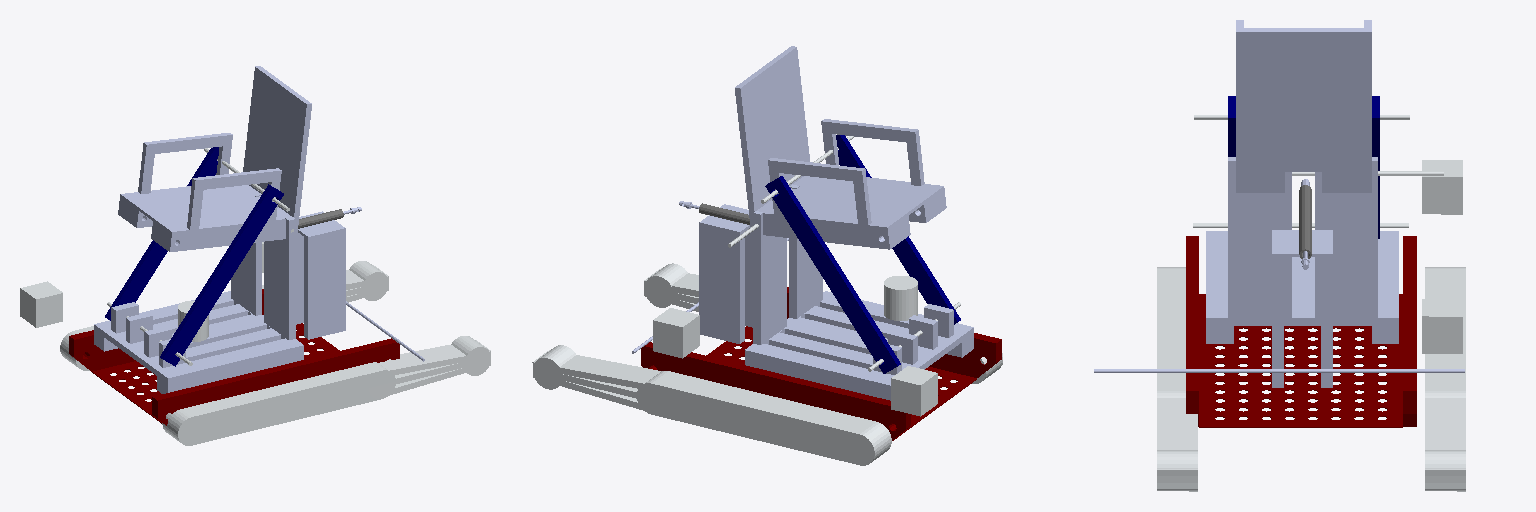
--- What the picture shows (computed from the rendered views, not written in the file) ---
Views: 3 orthographic renders of the robot side by side, from view 1: azimuth 30°, elevation 25°; view 2: azimuth 150°, elevation 25°; view 3: azimuth 270°, elevation 25°.
Model Real_Assembly with 23 links and 22 joints (7 revolute, 15 fixed), rooted at base_link, posed all joints at 0.
Visible links, largest first — view 1: seat, seat_base, base_link, limgf, actuatorbase, larmseat, fl, rarmseat, rr, rl, lslider, rslider; view 2: seat, seat_base, rimgf, base_link, actuatorbase, rl, rarmseat, larmseat, rr, fr, fl, imu_link (+2 smaller); view 3: seat, seat_base, base_link, actuatorbase, rl, fl, limgf, rimgf, fr, rr, frontmshaft, actuator (+1 smaller).
Boxes of the visible links, <box> form: seat: <box>118,66,311,251</box>; seat_base: <box>94,193,303,393</box>; base_link: <box>69,289,399,425</box>; limgf: <box>162,362,395,445</box>; actuatorbase: <box>296,211,345,339</box>; larmseat: <box>160,184,283,366</box>; fl: <box>369,336,490,398</box>; rarmseat: <box>105,147,218,320</box>; rr: <box>20,281,62,327</box>; rl: <box>346,261,388,302</box>; lslider: <box>111,302,152,343</box>; rslider: <box>144,326,185,367</box>; seat: <box>735,46,946,249</box>; seat_base: <box>745,184,973,400</box>; rimgf: <box>637,371,891,465</box>; base_link: <box>641,287,1001,440</box>; actuatorbase: <box>699,204,752,343</box>; rl: <box>532,345,667,410</box>; rarmseat: <box>765,176,900,373</box>; larmseat: <box>836,135,960,324</box>; rr: <box>891,366,937,416</box>; fr: <box>653,308,699,358</box>; fl: <box>644,263,698,311</box>; imu_link: <box>884,276,917,320</box>; seat: <box>1236,20,1371,192</box>; seat_base: <box>1206,157,1398,343</box>; base_link: <box>1186,236,1416,427</box>; actuatorbase: <box>1272,230,1332,387</box>; rl: <box>1425,391,1465,491</box>; fl: <box>1157,391,1197,491</box>; limgf: <box>1157,267,1185,397</box>; rimgf: <box>1425,267,1465,397</box>; fr: <box>1422,299,1462,353</box>; rr: <box>1422,160,1462,214</box>; frontmshaft: <box>1094,369,1464,372</box>; actuator: <box>1299,185,1311,258</box>.
Size in the robot's own frame: 1.3 by 0.9039 by 0.9948 metres.
14 mesh visuals loaded from 15 distinct referenced files (14 binary STL); not drawn: 1 (reference not matched to a file when rendering).

The robot description file, URDF, robot "Real_Assembly":
<?xml version="1.0" encoding="utf-8"?>
<robot
  name="Real_Assembly">
  <link
    name="base_link">
    <inertial>
      <origin
        xyz="0.209887635699005 0.131328835860976 -0.299617885060806"
        rpy="0 0 0" />
      <mass
        value="21.45414251209" />
      <inertia
        ixx="0.0737845881588852"
        ixy="-6.44448057037844E-07"
        ixz="9.29766076403339E-17"
        iyy="1.32886531333523"
        iyz="3.54955546067613E-19"
        izz="1.30624475779064" />
    </inertial>
    <visual>
      <origin
        xyz="0 0 -0.1"
        rpy="0 0 0" />
      <geometry>
        <mesh
          filename="package://Real_Assembly/meshes/base_link.STL" />
      </geometry>
      <material
        name="">
        <color
          rgba="0.501960784313725 0 0 1" />
      </material>
    </visual>
    <collision>
      <origin
        xyz="0 0 -0.1"
        rpy="0 0 0" />
      <geometry>
        <mesh
          filename="package://Real_Assembly/meshes/base_link.STL" />
      </geometry>
    </collision>
  </link>
  <link
    name="limgf">
    <inertial>
      <origin
        xyz="2.70616862252382E-15 1.11022302462516E-16 0"
        rpy="0 0 0" />
      <mass
        value="12" />
      <inertia
        ixx="0.00260008714378625"
        ixy="1.84314369322536E-18"
        ixz="-1.04265441317024E-18"
        iyy="0.0360008714378625"
        iyz="-3.99603000470126E-18"
        izz="0.0305828324604023" />
    </inertial>
    <visual name="ldrivewheel">
      <origin
        xyz="-0.35 0 0"
        rpy="0 0 0" />
      <geometry>
         <cylinder length="0.1" radius="0.05"/>         
      </geometry>
      <material
        name="">
        <color
          rgba="0.898039215686275 0.917647058823529 0.929411764705882 1" />
      </material>
    </visual>
    <collision name="ldrivewheel">
      <origin
        xyz="-0.35 0 0"
        rpy="0 0 0" />
      <geometry>
         <cylinder length="0.1" radius="0.05"/> 
      </geometry>

      <surface>
        <friction>
          <ode>
            <mu>0.7</mu>
            <mu2>150</mu2>
          </ode>
        </friction>
      </surface>
    </collision>
    <visual name="ltrack">
      <origin
        xyz="0 0 0"
        rpy="0 0 0" />
      <geometry>
         <box size ="0.7 0.1 0.1" />       
      </geometry>
      <material
        name="">
        <color
          rgba="0.898039215686275 0.917647058823529 0.929411764705882 1" />
      </material>
    </visual>
    <collision name="ltrack">
      <origin
        xyz="0 0 0"
        rpy="0 0 0" />
      <geometry>
         <box size ="0.7 0.1 0.1" />
      </geometry>
      <surface>
        <friction>
          <ode>
            <mu>0.7</mu>
            <mu2>150</mu2>
          </ode>
        </friction>
      </surface>
    </collision>
    <visual name="lfrontwheel">
      <origin
        xyz="0.35 0 0"
        rpy="0 0 0" />
      <geometry>
         <cylinder length="0.1" radius="0.05"/>         
      </geometry>
      <material
        name="">
        <color
          rgba="0.898039215686275 0.917647058823529 0.929411764705882 1" />
      </material>
    </visual>
    <collision name="lfrontwheel">
      <origin
        xyz="0.35 0 0"
        rpy="0 0 0" />
      <geometry>
         <cylinder length="0.1" radius="0.05"/> 
      </geometry>
      <surface>
        <friction>
          <ode>
            <mu>0.7</mu>
            <mu2>150</mu2>
          </ode>
        </friction>
      </surface>
    </collision>
  </link>
  <joint
    name="limgf"
    type="revolute">
    <origin
      xyz="0.2 0 0"
      rpy="1.57 0 0" />
    <parent
      link="base_link" />
    <child
      link="limgf" />
    <axis
      xyz="0 0 1" />
    <limit lower="0" upper="0" effort="0" velocity="0.00"/>
   </joint>

  <link name='rl'>
    <inertial>
      <origin
        xyz="0 0 0"
        rpy="0 0 0" />
      <mass
        value="1.5" />
      <inertia
        ixx="0.001749"
        ixy="1.84314369322536E-18"
        ixz="0.00188"
        iyy="0.012277"
        iyz="-3.99603000470126E-18"
        izz="0.010941" />
    </inertial>
    <visual name='front_right_flipper_visual_large_wheel_collision'>
      <origin
        xyz="0 0 0"
        rpy="1.57 0 0" />
      <geometry>
         <cylinder length="0.1" radius="0.05"/>          
      </geometry>
      <material
        name="">
        <color
          rgba="0.898039215686275 0.917647058823529 0.929411764705882 1" />
      </material>
    </visual>
    <collision name='front_right_flipper_collision_large_wheel_collision'>
      <origin
        xyz="0 0 0"
        rpy="1.57 0 0" />
      <geometry>
          <cylinder length="0.1" radius="0.05"/> 
      </geometry>
      <surface>
        <friction>
          <ode>
            <mu>0.7</mu>
            <mu2>150</mu2>
            
          </ode>
        </friction>
      </surface>
    </collision>
    <collision name='front_right_flipper_collision_small_wheel_collision_1'>
      <origin
        xyz="0.35 0 0"
        rpy="1.57 0 0" />
        <geometry>
           <cylinder length="0.1" radius="0.03"/> 
        </geometry>
        <surface>
           <friction>
              <ode>
                <mu>0.7</mu>
                <mu2>150</mu2>
                
              </ode>
           </friction>
         </surface>
     </collision>
     <visual name='front_right_flipper_visual_small_wheel_collision'>
      <origin
        xyz="0.35 0 0"
        rpy="1.57 0 0" />
      <geometry>
         <cylinder length="0.1" radius="0.05"/>          
      </geometry>
      <material
        name="">
        <color
          rgba="0.898039215686275 0.917647058823529 0.929411764705882 1" />
      </material>
    </visual>
    <collision name='front_right_flipper_collision_top_bar_collision_2'>
      <origin
        xyz="0.2 0 0.025"
        rpy="0 0.05 0" />
        <geometry>
          <box size="0.35 0.1 0.02"/>
        </geometry>
        <surface>
          <friction>
            <ode>
               <mu>0.7</mu>
               <mu2>150</mu2>
         
            </ode>
          </friction>
        </surface>
    </collision>
    <visual name='front_right_flipper_visual_top_bar_visual_2'>
      <origin
        xyz="0.2 0 0.025"
        rpy="0 0.05 0" />
      <geometry>
         <box size="0.4 0.1 0.02"/>       
      </geometry>
      <material
        name="">
        <color
          rgba="0.898039215686275 0.917647058823529 0.929411764705882 1" />
      </material>
    </visual>
    <collision name='front_right_flipper_collision_bottom_bar_collision_3'>
      <origin
        xyz="0.2 0 -0.025"
        rpy="0 -0.05 0" />
        <geometry>
         <box size="0.4 0.1 0.02"/>       
        </geometry>
        <surface>
          <friction>
            <ode>
               <mu>0.7</mu>
               <mu2>150</mu2>
               
            </ode>
          </friction>
        </surface>
    </collision>
    <collision name='front_right_flipper_collision_middle_bar_collision_4'>
      <origin
        xyz="0.225 0 0"
        rpy="0 0 0" />
        <geometry>
         <box size="0.35 0.1 0.02"/>       
        </geometry>
        <surface>
          <friction>
            <ode>
               <mu>0.7</mu>
               <mu2>150</mu2>
               
            </ode>
          </friction>
        </surface>
    </collision>
    <visual name='front_right_flipper_visual_bottom_bar_visual_3'>
     <origin
        xyz="0.2 0 -0.025"
        rpy="0 -0.05 0" />
      <geometry>
         <box size="0.4 0.1 0.02"/>       
      </geometry>
      <material
        name="">
        <color
          rgba="0.898039215686275 0.917647058823529 0.929411764705882 1" />
      </material>
    </visual>
    <visual name='front_right_flipper_visual_middle_bar_visual_4'>
      <origin
        xyz="0.225 0 0.0"
        rpy="0 0 0" />
      <geometry>
         <box size="0.35 0.1 0.02"/>       
      </geometry>
      <material
        name="">
        <color
          rgba="0.898039215686275 0.917647058823529 0.929411764705882 1" />
      </material>
    </visual>
  </link>
  <joint name='rl' type='revolute'>
    <origin
      xyz="0.35 0 0"
      rpy="1.57 0 0" />
    <parent
      link="rimgf" />
    <child
      link="rl" />
    <axis
      xyz="0 1 0" />
    <limit lower="0" upper="0.7" effort="0.1" velocity="0.10"/>
  </joint>

   <link name='fl'>
    <inertial>
      <origin
        xyz="0 0 0"
        rpy="0 0 0" />
      <mass
        value="1.5" />
      <inertia
        ixx="0.001749"
        ixy="1.84314369322536E-18"
        ixz="0.00188"
        iyy="0.012277"
        iyz="-3.99603000470126E-18"
        izz="0.010941" />
    </inertial>
    <visual name='front_left_flipper_visual_large_wheel_collision'>
      <origin
        xyz="0 0 0"
        rpy="1.57 0 0" />
      <geometry>
         <cylinder length="0.1" radius="0.05"/>          
      </geometry>
      <material
        name="">
        <color
          rgba="0.898039215686275 0.917647058823529 0.929411764705882 1" />
      </material>
    </visual>
    <collision name='front_left_flipper_collision_large_wheel_collision'>
      <origin
        xyz="0 0 0"
        rpy="1.57 0 0" />
      <geometry>
          <cylinder length="0.1" radius="0.05"/> 
      </geometry>
      <surface>
        <friction>
          <ode>
            <mu>0.7</mu>
            <mu2>150</mu2>
            
          </ode>
        </friction>
      </surface>
    </collision>
    <collision name='front_left_flipper_collision_small_wheel_collision_1'>
      <origin
        xyz="0.35 0 0"
        rpy="1.57 0 0" />
        <geometry>
           <cylinder length="0.1" radius="0.03"/> 
        </geometry>
        <surface>
           <friction>
              <ode>
                <mu>0.7</mu>
                <mu2>150</mu2>
                
              </ode>
           </friction>
         </surface>
     </collision>
     <visual name='front_left_flipper_visual_small_wheel_collision'>
      <origin
        xyz="0.35 0 0"
        rpy="1.57 0 0" />
      <geometry>
         <cylinder length="0.1" radius="0.05"/>          
      </geometry>
      <material
        name="">
        <color
          rgba="0.898039215686275 0.917647058823529 0.929411764705882 1" />
      </material>
    </visual>
    <collision name='front_left_flipper_collision_top_bar_collision_2'>
      <origin
        xyz="0.2 0 0.025"
        rpy="0 0.05 0" />
        <geometry>
          <box size="0.35 0.1 0.02"/>
        </geometry>
        <surface>
          <friction>
            <ode>
               <mu>0.7</mu>
               <mu2>150</mu2>
         
            </ode>
          </friction>
        </surface>
    </collision>
    <visual name='front_left_flipper_visual_top_bar_visual_2'>
      <origin
        xyz="0.2 0 0.025"
        rpy="0 0.05 0" />
      <geometry>
         <box size="0.4 0.1 0.02"/>       
      </geometry>
      <material
        name="">
        <color
          rgba="0.898039215686275 0.917647058823529 0.929411764705882 1" />
      </material>
    </visual>
    <collision name='front_left_flipper_collision_bottom_bar_collision_3'>
      <origin
        xyz="0.2 0 -0.025"
        rpy="0 -0.05 0" />
        <geometry>
         <box size="0.4 0.1 0.02"/>       
        </geometry>
        <surface>
          <friction>
            <ode>
               <mu>0.7</mu>
               <mu2>150</mu2>
               
            </ode>
          </friction>
        </surface>
    </collision>
    <collision name='front_left_flipper_collision_middle_bar_collision_4'>
      <origin
        xyz="0.225 0 0"
        rpy="0 0 0" />
        <geometry>
         <box size="0.35 0.1 0.02"/>       
        </geometry>
        <surface>
          <friction>
            <ode>
               <mu>0.7</mu>
               <mu2>150</mu2>
               
            </ode>
          </friction>
        </surface>
    </collision>
    <visual name='front_left_flipper_visual_bottom_bar_visual_3'>
     <origin
        xyz="0.2 0 -0.025"
        rpy="0 -0.05 0" />
      <geometry>
         <box size="0.4 0.1 0.02"/>       
      </geometry>
      <material
        name="">
        <color
          rgba="0.898039215686275 0.917647058823529 0.929411764705882 1" />
      </material>
    </visual>
    <visual name='front_left_flipper_visual_middle_bar_visual_4'>
      <origin
        xyz="0.225 0 0.0"
        rpy="0 0 0" />
      <geometry>
         <box size="0.35 0.1 0.02"/>       
      </geometry>
      <material
        name="">
        <color
          rgba="0.898039215686275 0.917647058823529 0.929411764705882 1" />
      </material>
    </visual>
  </link>
  <joint name='fl' type='revolute'>
    <origin
      xyz="0.35 0 0"
      rpy="1.57 0 0" />
    <parent
      link="limgf" />
    <child
      link="fl" />
    <axis
      xyz="0 1 0" />
    <limit lower="0" upper="0.7" effort="0.1" velocity="0.10"/>
  </joint>
  <link
    name="rimgf">
    <inertial>
      <origin
        xyz="2.70616862252382E-15 1.11022302462516E-16 2.22044604925031E-16"
        rpy="0 0 0" />
      <mass
        value="12" />
      <inertia
        ixx="0.00280008714378625"
        ixy="1.84314369322536E-18"
        ixz="-1.04265441317024E-18"
        iyy="0.0308714378625"
        iyz="-3.99603000470126E-18"
        izz="0.03" />
    </inertial>
    <visual name="rtrack">
      <origin
        xyz="0 0 0"
        rpy="0 0 0" />
      <geometry>
        <box size = "0.7 0.1 0.1" />
      </geometry>
      <material
        name="">
        <color
          rgba="0.898039215686275 0.917647058823529 0.929411764705882 1" />
      </material>
    </visual>
    <collision name="rtrack">
      <origin
        xyz="0 0 0"
        rpy="0 0 0" />
      <geometry>
          <box size = "0.7 0.1 0.1" />
      </geometry>
      
      <surface>
        <friction>
          <ode>
            <mu>0.7</mu>
            <mu2>150</mu2>
          </ode>
        </friction>
      </surface>
    </collision>
    <visual name="rdrivewheel">
      <origin
        xyz="-0.35 0 0"
        rpy="0 0 0" />
      <geometry>
        <cylinder length="0.1" radius="0.05"/>
      </geometry>
      <material
        name="">
        <color
          rgba="0.898039215686275 0.917647058823529 0.929411764705882 1" />
      </material>
    </visual>
    <collision name="rdrivewheel">
      <origin
        xyz="-0.35 0 0"
        rpy="0 0 0" />
      <geometry>
          <cylinder length="0.1" radius="0.05"/>
      </geometry>


      <surface>
        <friction>
          <ode>
            <mu>0.7</mu>
            <mu2>150</mu2>
          </ode>
        </friction>
      </surface>

    </collision>
    
    <visual name= "rfrontwheel">
      <origin
        xyz="0.35 0 0"
        rpy="0 0 0" />
      <geometry>
        <cylinder length="0.1" radius="0.05"/>
      </geometry>
      <material
        name="">
        <color
          rgba="0.898039215686275 0.917647058823529 0.929411764705882 1" />
      </material>
    </visual>
    <collision name="rfrontwheel">
      <origin
        xyz="0.35 0 0"
        rpy="0 0 0" />
      <geometry>
          <cylinder length="0.1" radius="0.05"/>
      </geometry>


      <surface>
        <friction>
          <ode>
            <mu>0.7</mu>
            <mu2>150</mu2>
          </ode>
        </friction>
      </surface>

    </collision>
  </link>
  <joint
    name="rimgf"
    type="revolute">
    <origin
      xyz="0.2 0.65 0"
      rpy="1.57 0 0" />
    <parent
      link="base_link" />
    <child
      link="rimgf" />
    <axis
      xyz="0 0 1" />
    <limit lower="0" upper="0" effort="0" velocity="0.00"/>
   </joint>

<link
    name="fr">
    <inertial>
      <origin
        xyz="2.70616862252382E-15 1.11022302462516E-16 2.22044604925031E-16"
        rpy="0 0 0" />
      <mass
        value="0.767359308966555" />
      <inertia
        ixx="0.00180008714378625"
        ixy="1.84314369322536E-18"
        ixz="-1.04265441317024E-18"
        iyy="0.00180008714378625"
        iyz="-3.99603000470126E-18"
        izz="0.00255828324604023" />
    </inertial>
    <visual>
      <origin
        xyz="0 0 0"
        rpy="0 0 0" />
      <geometry>
        <box size="0.1 0.1 0.1"/>
      </geometry>
      <material
        name="">
        <color
          rgba="0.898039215686275 0.917647058823529 0.929411764705882 1" />
      </material>
    </visual>
    <collision>
      <origin
        xyz="0 0 0"
        rpy="0 0 0" />
      <geometry>
          <box size="0.1 0.1 0.1"/>
      </geometry>


      <surface>
        <friction>
          <ode>
            <mu>0.5</mu>
            <mu2>3.19</mu2>
          </ode>
        </friction>
      </surface>

    </collision>
  </link>
  <joint
    name="fr"
    type="revolute">
    
    <origin
      xyz="0.3 0.2 0.00848870681082972"
      rpy="3.14159265358978 0 0" />
    <parent
      link="rimgf" />
    <child
      link="fr" />
    <axis
      xyz="0 0 1" />
    <limit lower="-1e+16" upper="1e+16" effort="0.0" velocity="0.00"/>
  </joint>
<link
    name="rr">
    <inertial>
      <origin
        xyz="2.70616862252382E-15 1.11022302462516E-16 2.22044604925031E-16"
        rpy="0 0 0" />
      <mass
        value="0.767359308966555" />
      <inertia
        ixx="0.00180008714378625"
        ixy="1.84314369322536E-18"
        ixz="-1.04265441317024E-18"
        iyy="0.00180008714378625"
        iyz="-3.99603000470126E-18"
        izz="0.00255828324604023" />
    </inertial>
    <visual>
      <origin
        xyz="0 0 0"
        rpy="0 0 0" />
      <geometry>
        <box size="0.1 0.1 0.1"/>
      </geometry>
      <material
        name="">
        <color
          rgba="0.898039215686275 0.917647058823529 0.929411764705882 1" />
      </material>
    </visual>
    <collision>
      <origin
        xyz="0 0 0"
        rpy="0 0 0" />
      <geometry>
          <box size="0.1 0.1 0.1"/>
      </geometry>


      <surface>
        <friction>
          <ode>
            <mu>0.5</mu>
            <mu2>3.19</mu2>
          </ode>
        </friction>
      </surface>

    </collision>
  </link>
  <joint
    name="rr"
    type="revolute">
    
    <origin
      xyz="-0.5 0.2 0.00848870681082972"
      rpy="3.14159265358978 0 0" />
    <parent
      link="rimgf" />
    <child
      link="rr" />
    <axis
      xyz="0 0 1" />
    <limit lower="-1e+16" upper="1e+16" effort="0.0" velocity="0.00"/>
  </joint>

  <link
    name="seat_base">
    <inertial>
      <origin
        xyz="0.13070677596664 0.0591721063764107 0.160392579328243"
        rpy="0 0 0" />
      <mass
        value="9.99941187073815" />
      <inertia
        ixx="0.392687593262726"
        ixy="-0.109960264110025"
        ixz="0.00237498539547659"
        iyy="0.518282720050582"
        iyz="0.00231311557741671"
        izz="0.411843053503668" />
    </inertial>
    <visual>
      <origin
        xyz="0 0 0"
        rpy="0 0 0" />
      <geometry>
        <mesh
          filename="package://Real_Assembly/meshes/seat_base.STL" />
      </geometry>
      <material
        name="">
        <color
          rgba="0.792156862745098 0.819607843137255 0.933333333333333 1" />
      </material>
    </visual>
    <collision>
      <origin
        xyz="0 0 0"
        rpy="0 0 0" />
      <geometry>
        <mesh
          filename="package://Real_Assembly/meshes/seat_base.STL" />
      </geometry>
    </collision>
  </link>
  <joint
    name="seat_base"
    type="fixed">
    <origin
      xyz="0.021338 0.46113 0.12303"
      rpy="1.5708 0 0" />
    <parent
      link="base_link" />
    <child
      link="seat_base" />
    <axis
      xyz="0 0 0" />
  </joint>
  <link
    name="seat_shaft">
    <inertial>
      <origin
        xyz="0.437663404508652 -0.211564254923608 -0.116942447712383"
        rpy="0 0 0" />
      <mass
        value="0.178744494109947" />
      <inertia
        ixx="0.00406992975387134"
        ixy="0"
        ixz="1.02664136696231E-20"
        iyy="0.00406992975387134"
        iyz="-7.5387578213068E-24"
        izz="3.60371243187417E-06" />
    </inertial>
    <visual>
      <origin
        xyz="0 0 0"
        rpy="0 0 0" />
      <geometry>
        <mesh
          filename="package://Real_Assembly/meshes/seat_shaft.STL" />
      </geometry>
      <material
        name="">
        <color
          rgba="0.898039215686275 0.917647058823529 0.929411764705882 1" />
      </material>
    </visual>
    <collision>
      <origin
        xyz="0 0 0"
        rpy="0 0 0" />
      <geometry>
        <mesh
          filename="package://Real_Assembly/meshes/seat_shaft.STL" />
      </geometry>
    </collision>
  </link>
  <joint
    name="seat_shaft"
    type="fixed">
    <origin
      xyz="-0.178182062409942 0.499999999999999 0.194205388784191"
      rpy="0 0 0.245712975683216" />
    <parent
      link="seat_base" />
    <child
      link="seat_shaft" />
    <axis
      xyz="0 0 0" />
  </joint>
   <link
    name="seat">
    <inertial>
      <origin
        xyz="0.290851079200038 -0.0642848034196394 0.130086029033119"
        rpy="0 0 0" />
      <mass
        value="11.5620289047973" />
      <inertia
        ixx="0.253867296205353"
        ixy="-0.0681623150791914"
        ixz="-5.75707407012181E-05"
        iyy="0.429806744081254"
        iyz="3.57664098032124E-06"
        izz="0.40737304251517" />
    </inertial>
    <visual>
      <origin
        xyz="0 0 0"
        rpy="0 0 0" />
      <geometry>
        <mesh
          filename="package://Real_Assembly/meshes/seat.STL" />
      </geometry>
      <material
        name="">
        <color
          rgba="0.792156862745098 0.819607843137255 0.933333333333333 1" />
      </material>
    </visual>
    <collision>
      <origin
        xyz="0 0 0"
        rpy="0 0 0" />
      <geometry>
        <mesh
          filename="package://Real_Assembly/meshes/seat.STL" />
      </geometry>
    </collision>
  </link>
  <joint
    name="seat"
    type="revolute">
    <origin
      xyz="0.0425205885700615 0.0178287837303983 -0.169327362493408"
      rpy="0 0 -0.179479829759404" />
    <limit lower="0.0" upper="1.57" effort="0" velocity="0"/>
    <parent
      link="seat_shaft" />
    <child
      link="seat" />
    <axis
      xyz="0 0 1" />
  </joint>

  <transmission name="seat_control">
    <type>transmission_interface/SimpleTransmission</type>
    <joint name="seat">
        <hardwareInterface>hardware_interface/EffortJointInterface</hardwareInterface>  
    </joint>
    <actuator name="seat_Motor">
        <hardwareInterface>hardware_interface/EffortJointInterface</hardwareInterface> 
        <mechanicalReduction>1</mechanicalReduction>
    </actuator>
  </transmission>




  <link
    name="lslider">
    <inertial>
      <origin
        xyz="-0.10219680001211 0.168616636573953 -0.411134018145097"
        rpy="0 0 0" />
      <mass
        value="0.538723517969044" />
      <inertia
        ixx="0.00154488524985273"
        ixy="9.83340211437564E-08"
        ixz="-1.02465885769452E-19"
        iyy="0.00135552294740132"
        iyz="-5.74386831462997E-21"
        izz="0.000816936921765391" />
    </inertial>
    <visual>
      <origin
        xyz="0 0 0"
        rpy="0 0 0" />
      <geometry>
        <mesh
          filename="package://Real_Assembly/meshes/lslider.STL" />
      </geometry>
      <material
        name="">
        <color
          rgba="0.792156862745098 0.819607843137255 0.933333333333333 1" />
      </material>
    </visual>
    <collision>
      <origin
        xyz="0 0 0"
        rpy="0 0 0" />
      <geometry>
        <mesh
          filename="package://Real_Assembly/meshes/lslider.STL" />
      </geometry>
    </collision>
  </link>
  <joint
    name="lslider"
    type="fixed">
    <origin
      xyz="-0.0213382562427508 -0.123030538506444 0.461134018145097"
      rpy="0 0 0" />
    <parent
      link="seat_base" />
    <child
      link="lslider" />
    <axis
      xyz="0 0 0" />
  </joint>
  <link
    name="rslider">
    <inertial>
      <origin
        xyz="-0.045593004819271 0.0455860980675084 0.020145622176332"
        rpy="0 0 0" />
      <mass
        value="0.538723517969045" />
      <inertia
        ixx="0.00154488524985273"
        ixy="9.83340211437548E-08"
        ixz="-8.83138938296809E-20"
        iyy="0.00135552294740132"
        iyz="-4.89767860438925E-20"
        izz="0.000816936921765391" />
    </inertial>
    <visual>
      <origin
        xyz="0 0 0"
        rpy="0 0 0" />
      <geometry>
        <mesh
          filename="package://Real_Assembly/meshes/rslider.STL" />
      </geometry>
      <material
        name="">
        <color
          rgba="0.792156862745098 0.819607843137255 0.933333333333333 1" />
      </material>
    </visual>
    <collision>
      <origin
        xyz="0 0 0"
        rpy="0 0 0" />
      <geometry>
        <mesh
          filename="package://Real_Assembly/meshes/rslider.STL" />
      </geometry>
    </collision>
  </link>
  <joint
    name="rslider"
    type="fixed">
    <origin
      xyz="-0.0779420514355905 0 0.239854377823668"
      rpy="0 0 0" />
    <parent
      link="seat_base" />
    <child
      link="rslider" />
    <axis
      xyz="0 0 0" />
  </joint>
  <link
    name="slider_shaft">
    <inertial>
      <origin
        xyz="-1.38777878078145E-17 -2.77555756156289E-17 -0.03422531176701"
        rpy="0 0 0" />
      <mass
        value="0.178744494109947" />
      <inertia
        ixx="0.00406992975387136"
        ixy="2.53097473449156E-36"
        ixz="-9.89830591075583E-19"
        iyy="0.00406992975387136"
        iyz="9.68707891561013E-21"
        izz="3.60371243187417E-06" />
    </inertial>
    <visual>
      <origin
        xyz="0 0 0"
        rpy="0 0 0" />
      <geometry>
        <mesh
          filename="package://Real_Assembly/meshes/slider_shaft.STL" />
      </geometry>
      <material
        name="">
        <color
          rgba="0.898039215686275 0.917647058823529 0.929411764705882 1" />
      </material>
    </visual>
    <collision>
      <origin
        xyz="0 0 0"
        rpy="0 0 0" />
      <geometry>
        <mesh
          filename="package://Real_Assembly/meshes/slider_shaft.STL" />
      </geometry>
    </collision>
  </link>
  <joint
    name="slider_shaft"
    type="fixed">
    <origin
      xyz="-0.0450278792381198 0.0658345667414153 -0.111725161075101"
      rpy="3.14159265358979 0 3.14159265358979" />
    <parent
      link="rslider" />
    <child
      link="slider_shaft" />
    <axis
      xyz="0 0 0" />
  </joint>
<link
    name="rarmseat">
    <inertial>
      <origin
        xyz="-0.137854454859724 -0.136583501692387 0.00999999999999995"
        rpy="0 0 0" />
      <mass
        value="0.761573913301099" />
      <inertia
        ixx="0.00120824112369819"
        ixy="0.0048835338389527"
        ixz="-2.05598005362381E-19"
        iyy="0.0253466648829565"
        iyz="3.761376038139E-20"
        izz="0.0265041344124346" />
    </inertial>
    <visual>
      <origin
        xyz="0 0 0"
        rpy="0 0 0" />
      <geometry>
        <mesh
          filename="package://Real_Assembly/meshes/rarmseat.STL" />
      </geometry>
      <material
        name="">
        <color
          rgba="0 0 0.501960784313725 1" />
      </material>
    </visual>
    <collision>
      <origin
        xyz="0 0 0"
        rpy="0 0 0" />
      <geometry>
        <mesh
          filename="package://Real_Assembly/meshes/rarmseat.STL" />
      </geometry>
    </collision>
  </link>
  <joint
    name="rarmseat"
    type="fixed">
    <origin
      xyz="0.0336307962141141 0.185459845826114 0.158129216748567"
      rpy="3.14159265358979 0 0.662745754251332" />
    <parent
      link="slider_shaft" />
    <child
      link="rarmseat" />
    <axis
      xyz="0 0 0" />
  </joint>
   <link
    name="seatshaftfront">
    <inertial>
      <origin
        xyz="-0.0985271727786901 -0.341676800643241 -0.0531441113648711"
        rpy="0 0 0" />
      <mass
        value="0.178744494109947" />
      <inertia
        ixx="0.00406992975387135"
        ixy="0"
        ixz="-9.11069422472293E-21"
        iyy="0.00406992975387135"
        iyz="-6.40268965548207E-21"
        izz="3.60371243187417E-06" />
    </inertial>
    <visual>
      <origin
        xyz="0 0 0"
        rpy="0 0 0" />
      <geometry>
        <mesh
          filename="package://Real_Assembly/meshes/seatshaftfront.STL" />
      </geometry>
      <material
        name="">
        <color
          rgba="0.898039215686275 0.917647058823529 0.929411764705882 1" />
      </material>
    </visual>
    <collision>
      <origin
        xyz="0 0 0"
        rpy="0 0 0" />
      <geometry>
        <mesh
          filename="package://Real_Assembly/meshes/seatshaftfront.STL" />
      </geometry>
    </collision>
  </link>
  <joint
    name="seatshaftfront"
    type="fixed">
    <origin
      xyz="-0.14111157113081 -0.454916432446204 0.224089582001714"
      rpy="0 0 2.72811061142027" />
    <parent
      link="rarmseat" />
    <child
      link="seatshaftfront" />
    <axis
      xyz="0 0 0" />
  </joint>
  <link
    name="larmseat">
    <inertial>
      <origin
        xyz="-0.137854454859581 -0.136583501692253 0.00999999999999998"
        rpy="0 0 0" />
      <mass
        value="0.761573913301098" />
      <inertia
        ixx="0.00120824112369563"
        ixy="0.00488353383894635"
        ixz="-4.39902042192204E-18"
        iyy="0.025346664882959"
        iyz="7.93598451668341E-19"
        izz="0.0265041344124345" />
    </inertial>
    <visual>
      <origin
        xyz="0 0 0"
        rpy="0 0 0" />
      <geometry>
        <mesh
          filename="package://Real_Assembly/meshes/larmseat.STL" />
      </geometry>
      <material
        name="">
        <color
          rgba="0 0 0.501960784313725 1" />
      </material>
    </visual>
    <collision>
      <origin
        xyz="0 0 0"
        rpy="0 0 0" />
      <geometry>
        <mesh
          filename="package://Real_Assembly/meshes/larmseat.STL" />
      </geometry>
    </collision>
  </link>
  <joint
    name="larmseat"
    type="fixed">
    <origin
      xyz="0.0336307962138782 0.185459845826171 -0.191870783251433"
      rpy="3.14159265358979 0 0.662745754251591" />
    <parent
      link="slider_shaft" />
    <child
      link="larmseat" />
    <axis
      xyz="0 0 0" />
  </joint>
  <link
    name="frontmshaft">
    <inertial>
      <origin
        xyz="0.61437095223077 0.133739211977767 -0.246267077411583"
        rpy="0 0 0" />
      <mass
        value="0.0706858347057704" />
      <inertia
        ixx="0.00477173562910641"
        ixy="3.37445951098918E-39"
        ixz="-1.19500194332743E-36"
        iyy="0.00477173562910641"
        iyz="-3.07345772260895E-37"
        izz="8.8357293382213E-07" />
    </inertial>
    <visual>
      <origin
        xyz="0 0 0"
        rpy="0 0 0" />
      <geometry>
        <mesh
          filename="package://Real_Assembly/meshes/frontmshaft.STL" />
      </geometry>
      <material
        name="">
        <color
          rgba="0.792156862745098 0.819607843137255 0.933333333333333 1" />
      </material>
    </visual>
    <collision>
      <origin
        xyz="0 0 0"
        rpy="0 0 0" />
      <geometry>
        <mesh
          filename="package://Real_Assembly/meshes/frontmshaft.STL" />
      </geometry>
    </collision>
  </link>
  <joint
    name="frontmshaft"
    type="fixed">
    <origin
      xyz="0 0 0"
      rpy="1.5708 0 0" />
    <parent
      link="base_link" />
    <child
      link="frontmshaft" />
    <axis
      xyz="0 0 0" />
  </joint>
 
  <link
    name="actuatorbase">
    <inertial>
      <origin
        xyz="-0.000854154863385248 0.162450406952896 0.0574613287386411"
        rpy="0 0 0" />
      <mass
        value="2.85236705711202" />
      <inertia
        ixx="0.0374926003846532"
        ixy="-3.82691861784211E-11"
        ixz="1.00440965216016E-16"
        iyy="0.0141992522347615"
        iyz="-1.98674563872966E-16"
        izz="0.042873718945787" />
    </inertial>
    <visual>
      <origin
        xyz="0 0 0"
        rpy="0 0 0" />
      <geometry>
        <mesh
          filename="package://Real_Assembly/meshes/actuatorbase.STL" />
      </geometry>
      <material
        name="">
        <color
          rgba="0.792156862745098 0.819607843137255 0.933333333333333 1" />
      </material>
    </visual>
    <collision>
      <origin
        xyz="0 0 0"
        rpy="0 0 0" />
      <geometry>
        <mesh
          filename="package://Real_Assembly/meshes/actuatorbase.STL" />
      </geometry>
    </collision>
  </link>
  <joint
    name="actuatorbase"
    type="fixed">
    <origin
      xyz="0.450840258681597 0.301947582836372 0.420538638759965"
      rpy="-1.5707963267949 0 -1.5707963267949" />
    <parent
      link="base_link" />
    <child
      link="actuatorbase" />
    <axis
      xyz="0 0 0" />
  </joint>
  <link
    name="actuator">
    <inertial>
      <origin
        xyz="6.66133814775094E-16 5.55111512312578E-17 0.185"
        rpy="0 0 0" />
      <mass
        value="0.145298660228529" />
      <inertia
        ixx="0.00166942106491737"
        ixy="-4.43928895667978E-38"
        ixz="-5.7030622083115E-18"
        iyy="0.00166942106491737"
        iyz="-2.02586396626932E-36"
        izz="2.36110322871359E-05" />
    </inertial>
    <visual>
      <origin
        xyz="0 0 0"
        rpy="0 0 0" />
      <geometry>
        <mesh
          filename="package://Real_Assembly/meshes/actuator.STL" />
      </geometry>
      <material
        name="">
        <color
          rgba="0.501960784313725 0.501960784313725 0.501960784313725 1" />
      </material>
    </visual>
    <collision>
      <origin
        xyz="0 0 0"
        rpy="0 0 0" />
      <geometry>
        <mesh
          filename="package://Real_Assembly/meshes/actuator.STL" />
      </geometry>
    </collision>
  </link>
  <joint
    name="actuator"
    type="fixed">
    <origin
      xyz="-0.00820355422637542 -0.0211308538099861 -0.213062169550757"
      rpy="0 0 3.14159265358979" />
    <parent
      link="actuatorbase" />
    <child
      link="actuator" />
    <axis
      xyz="0 0 0" />
  </joint>
  <link
    name="actuator_inside">
    <inertial>
      <origin
        xyz="0.207831999852708 0.00368946042084284 8.24641610552845E-09"
        rpy="0 0 0" />
      <mass
        value="0.053577286403709" />
      <inertia
        ixx="1.43429296420453E-06"
        ixy="1.07465106744899E-07"
        ixz="1.05248918756066E-10"
        iyy="0.00142766175276826"
        iyz="-7.8755049380995E-13"
        izz="0.00142767368490085" />
    </inertial>
    <visual>
      <origin
        xyz="0 0 0"
        rpy="0 0 0" />
      <geometry>
        <mesh
          filename="package://Real_Assembly/meshes/actuator_inside.STL" />
      </geometry>
      <material
        name="">
        <color
          rgba="0.792156862745098 0.819607843137255 0.933333333333333 1" />
      </material>
    </visual>
    <collision>
      <origin
        xyz="0 0 0"
        rpy="0 0 0" />
      <geometry>
        <mesh
          filename="package://Real_Assembly/meshes/actuator_inside.STL" />
      </geometry>
    </collision>
  </link>
  <joint
    name="actuator_inside"
    type="fixed">
    <origin
      xyz="0 -0.00368181818181817 0.373063298019189"
      rpy="0 1.5707963267949 0" />
    <parent
      link="actuator" />
    <child
      link="actuator_inside" />
    <axis
      xyz="0 0 0" />
  </joint>
  

  <link
    name="imu_link">
    <inertial>
      <origin
        xyz="2.44249065417534E-15 0 1.38777878078145E-17"
        rpy="0 0 0" />
      <mass
        value="0.767359308966554" />
      <inertia
        ixx="0.00180008714378625"
        ixy="0.087890977618477E-19"
        ixz="0.47649531791744E-18"
        iyy="0.00180008714378625"
        iyz="0.18951507272486E-19"
        izz="0.00255828324604022" />
    </inertial>
    <visual>
      <origin
        xyz="0 0 0"
        rpy="0 0 0" />
      <geometry>
         <cylinder length="0.1" radius="0.05"/> 
      </geometry>
      <material
        name="">
        <color
          rgba="0.898039215686275 0.917647058823529 0.929411764705882 1" />
      </material>
    </visual>
    <collision>
      <origin
        xyz="0 0 0"
        rpy="0 0 0" />
      <geometry>
         <cylinder length="0.1" radius="0.05"/>        
      </geometry>
    </collision>
  </link>
  <joint
    name="imu_link"
    type="fixed">
    <origin
      xyz="0 0.2 0.25"
      rpy="0 0 0" />
    <parent
      link="base_link" />
    <child
      link="imu_link" />
    <axis
      xyz="0 1 0" />
  </joint>

  <gazebo reference="imu_link">
    <gravity>true</gravity>
    <sensor name="imu_sensor" type="imu">
      <always_on>true</always_on>
      <update_rate>100</update_rate>
      <visualize>true</visualize>
      <topic>__default_topic__</topic>
      <plugin filename="libgazebo_ros_imu_sensor.so" name="imu_plugin">
        <topicName>imu</topicName>
        <bodyName>imu_link</bodyName>
        <updateRateHZ>30.0</updateRateHZ>
        <gaussianNoise>0.01</gaussianNoise>
        <xyzOffset>0 0 0</xyzOffset>
        <rpyOffset>0 0 0</rpyOffset>
        <frameName>imu_link</frameName>
        <initialOrientationAsReference>false</initialOrientationAsReference>
      </plugin>
      <pose>0 0 0 0 0 0</pose>
    </sensor>
  </gazebo>
  <gazebo>
    <plugin filename="libsimple.so" name="simple_tracked_vehicle">
                <body>base_link</body>
                <left_track>limgf</left_track>
                <right_track>rimgf</right_track>
                <left_flipper>fl</left_flipper>
                <left_flipper>rl</left_flipper>
                <right_flipper>fr</right_flipper>
                <right_flipper>rr</right_flipper>
                <track_mu>2</track_mu>
                <track_mu2>0.5</track_mu2>
    </plugin>
  </gazebo>
  <gazebo>
    <plugin name="gazebo_ros_control" filename="libgazebo_ros_control.so">
       <robotNamespace>/</robotNamespace>
    </plugin>
  </gazebo>

  <link name="camera_link" >
       <inertial>
        <origin xyz="0.8 0.24765 0.5" rpy="0 0 0"/>
        <mass  
          value="0.1" />
        <inertia
              ixx="0.00909390367998844"
              ixy="1.1020457476751E-38"
              ixz="-3.89648748886894E-37"
              iyy="0.00909390367998844"
              iyz="-1.00236454621529E-36"
              izz="4.71155797028266E-06"/>
       </inertial>
       <visual>
         <geometry>
          <mesh filename="package://Real_Assembly/meshes/kinect.dae"/>
         </geometry>
         <material name="blue"/>
        </visual>
       <collision>
         <geometry>
           <mesh filename="package://Real_Assembly/meshes/kinect.dae"/>
         </geometry>
       </collision>
  </link>
  <joint name="camera_joint" type="fixed">
      <origin xyz="0.8 0.24765 0.5" rpy="0 0 0"/>
      <parent
       link="base_link"/>
      <child
       link="camera_link"/>
      <axis
       xyz="0 0 0" />
  </joint>
  <link name="camera_frame"/>
  <joint name="camera_frame" type="fixed">
      <origin xyz="0 0 0" rpy="-1.57 0 -1.57"/>
      <parent
       link="camera_link"/>
      <child
       link="camera_frame"/>
      <axis
       xyz="0 0 0" />
  </joint>
  <gazebo reference="camera_link">
       <sensor name="camera_link" type="depth">
        <update_rate>10</update_rate>
        <camera>
          <horizontal_fov>1.047198</horizontal_fov>
          <image>
            <width>640</width>
            <height>480</height>
            <format>R8G8B8</format>
          </image>
          <depth_camera>
          </depth_camera>
          <clip>
            <near>0.05</near>
            <far>100</far>
          </clip>
        </camera>
        <plugin name="camera_plugin" filename="libgazebo_ros_openni_kinect.so">
          <baseline>0.2</baseline>
          <alwaysOn>true</alwaysOn>
          <!-- Keep this zero, update_rate in the parent <sensor> tag
            will control the frame rate. -->
          <updateRate>10.0</updateRate>
          <cameraName>camera</cameraName>
          <imageTopicName>/camera/rgb/image_raw</imageTopicName>
          <cameraInfoTopicName>/camera/rgb/camera_info</cameraInfoTopicName>
          <depthImageTopicName>/camera/depth/image_raw</depthImageTopicName>
          <depthImageCameraInfoTopicName>/camera/depth/camera_info</depthImageCameraInfoTopicName>
          <pointCloudTopicName>/camera/depth/points</pointCloudTopicName>
          <frameName>camera_frame</frameName>
          <pointCloudCutoff>0.5</pointCloudCutoff>
          <pointCloudCutoffMax>100.0</pointCloudCutoffMax>
          <distortionK1>0</distortionK1>
          <distortionK2>0</distortionK2>
          <distortionK3>0</distortionK3>
          <distortionT1>0</distortionT1>
          <distortionT2>0</distortionT2>
          <CxPrime>0</CxPrime>
          <Cx>0</Cx>
          <Cy>0</Cy>
          <focalLength>0</focalLength>
          <hackBaseline>0.07</hackBaseline>
        </plugin>
        <alwaysOn>true</alwaysOn>
      </sensor>
  </gazebo>

</robot>
